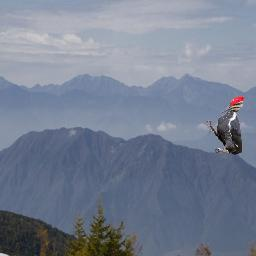Woodpecker: (206, 96, 244, 155)
